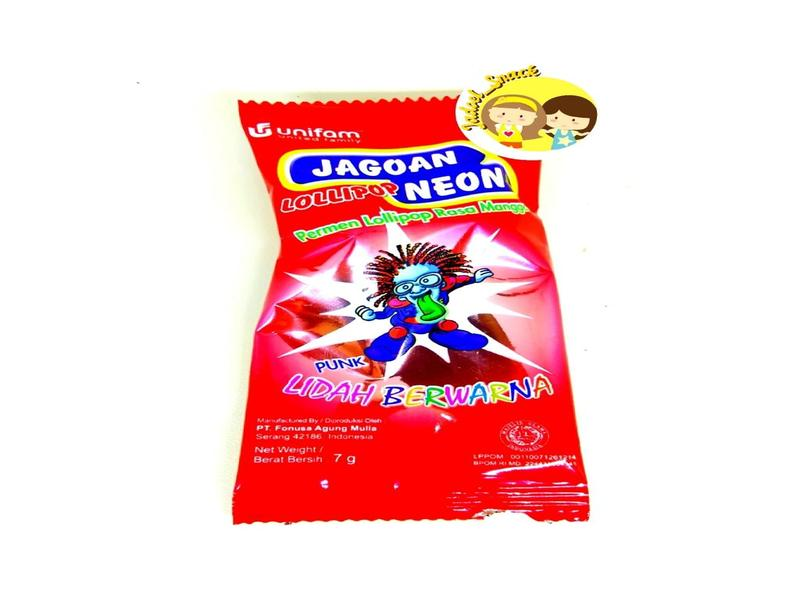jagoan_neon: (232, 95, 591, 521)
